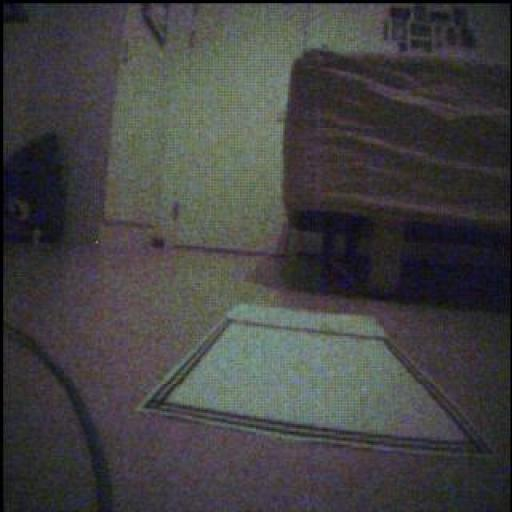pad: (140, 307, 491, 456)
